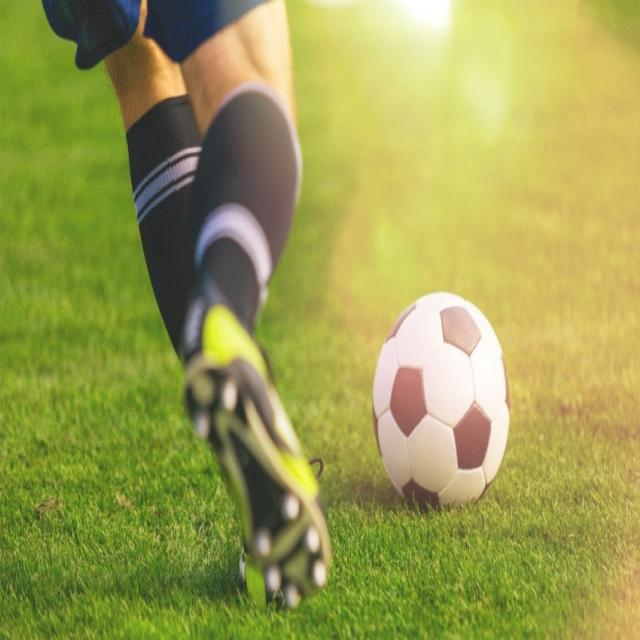soccer ball: (372, 291, 510, 512)
